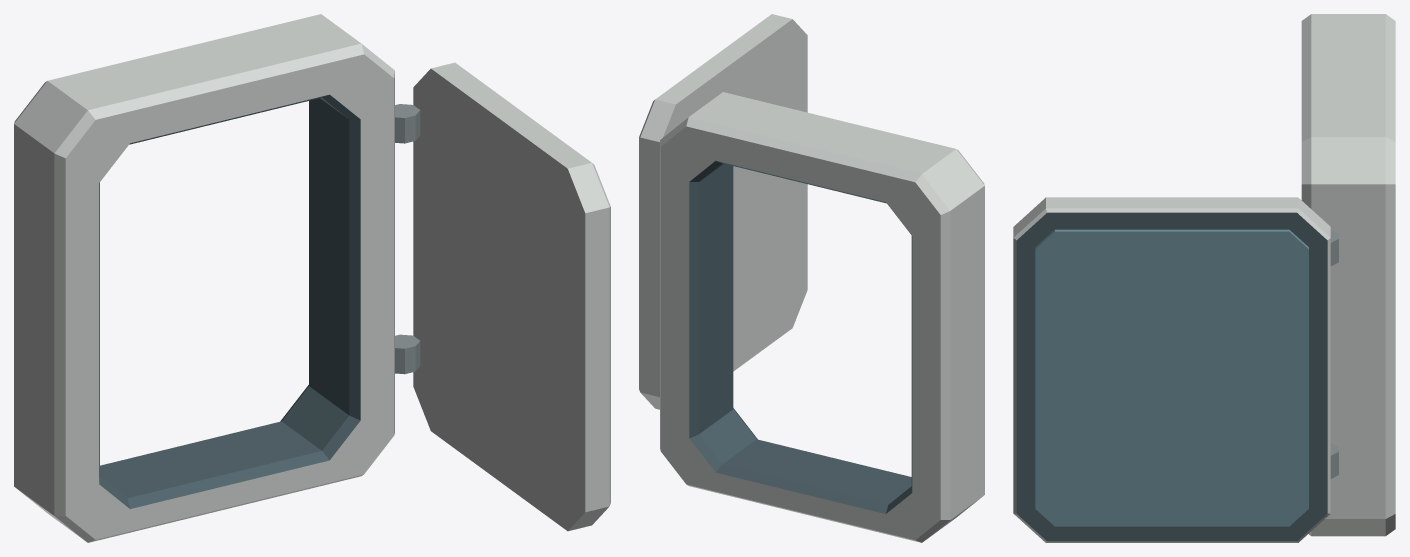
The picture shows the model from 3 angles, left to right: view 1: azimuth 30°, elevation 25°; view 2: azimuth 150°, elevation 25°; view 3: azimuth 270°, elevation 25°; orthographic projection. The views are drawn at different scales.
Visible parts, largest first — view 1: Frame_ThickOctagonalThroughThroat, Door_FixedOpenThickSteppedPlate, Hinge_UpperStaticOctagonalBearing, Hinge_LowerStaticOctagonalBearing; view 2: Frame_ThickOctagonalThroughThroat, Door_FixedOpenThickSteppedPlate; view 3: Door_FixedOpenThickSteppedPlate, Frame_ThickOctagonalThroughThroat.
Boxes of the visible parts, box(x1,y1,x2,y2) form: Frame_ThickOctagonalThroughThroat: box(14, 14, 394, 542); Door_FixedOpenThickSteppedPlate: box(413, 62, 610, 531); Hinge_UpperStaticOctagonalBearing: box(395, 104, 420, 143); Hinge_LowerStaticOctagonalBearing: box(395, 334, 420, 374); Frame_ThickOctagonalThroughThroat: box(660, 92, 984, 542); Door_FixedOpenThickSteppedPlate: box(639, 14, 807, 409); Door_FixedOpenThickSteppedPlate: box(1013, 197, 1330, 542); Frame_ThickOctagonalThroughThroat: box(1301, 14, 1395, 536).
Size of the model in its own units: 2.64 by 2.72 by 2.36.
